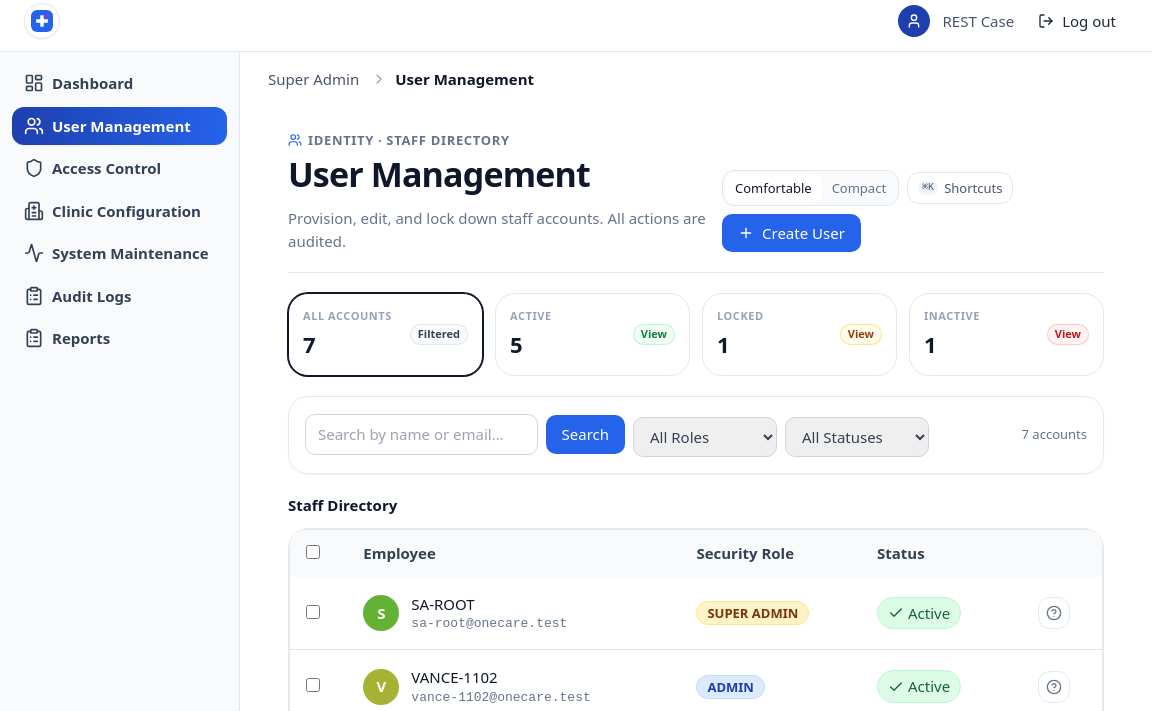
Scenario: super-admin user management — REST cases › assigns a new role through PUT /users/{id}/role
Click the button without text in the row of "vance-1102@onecare.test": (1054, 687) x1=1038 y1=671 x2=1070 y2=703
(page scrolled)
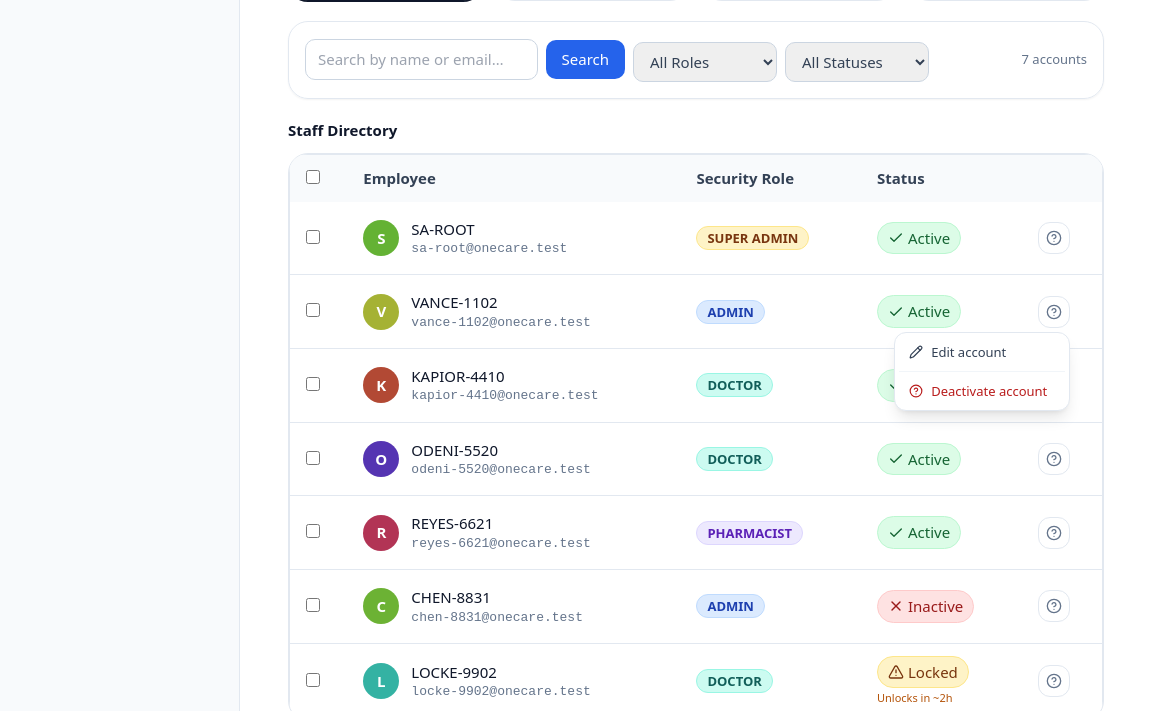
expect the menu is shown: met, box x1=894 y1=332 x2=1070 y2=411
Click the button "Edit account": (982, 352) x1=899 y1=337 x2=1065 y2=367
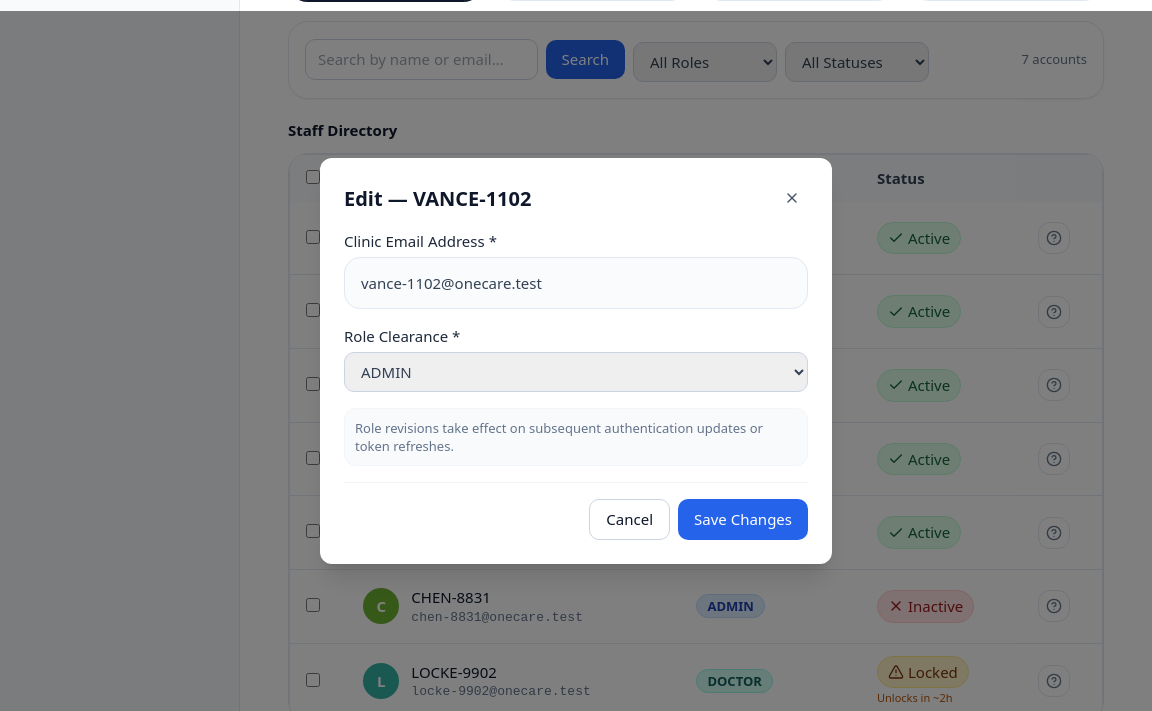
expect the heading "Edit — VANCE-1102" is shown: met, box x1=344 y1=183 x2=532 y2=214
Select "PHARMACIST" in the dropdown labelled "Role Clearance*": (576, 372) x1=344 y1=352 x2=808 y2=392
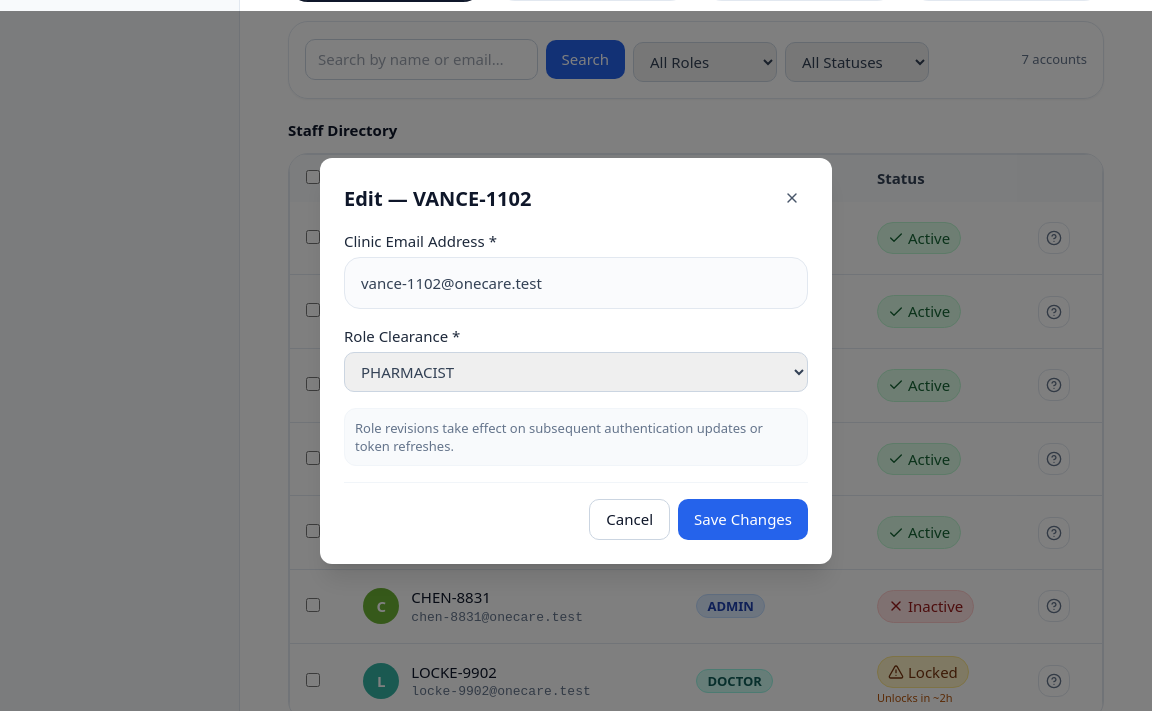
Click the button "Save Changes": (743, 519) x1=678 y1=499 x2=808 y2=540
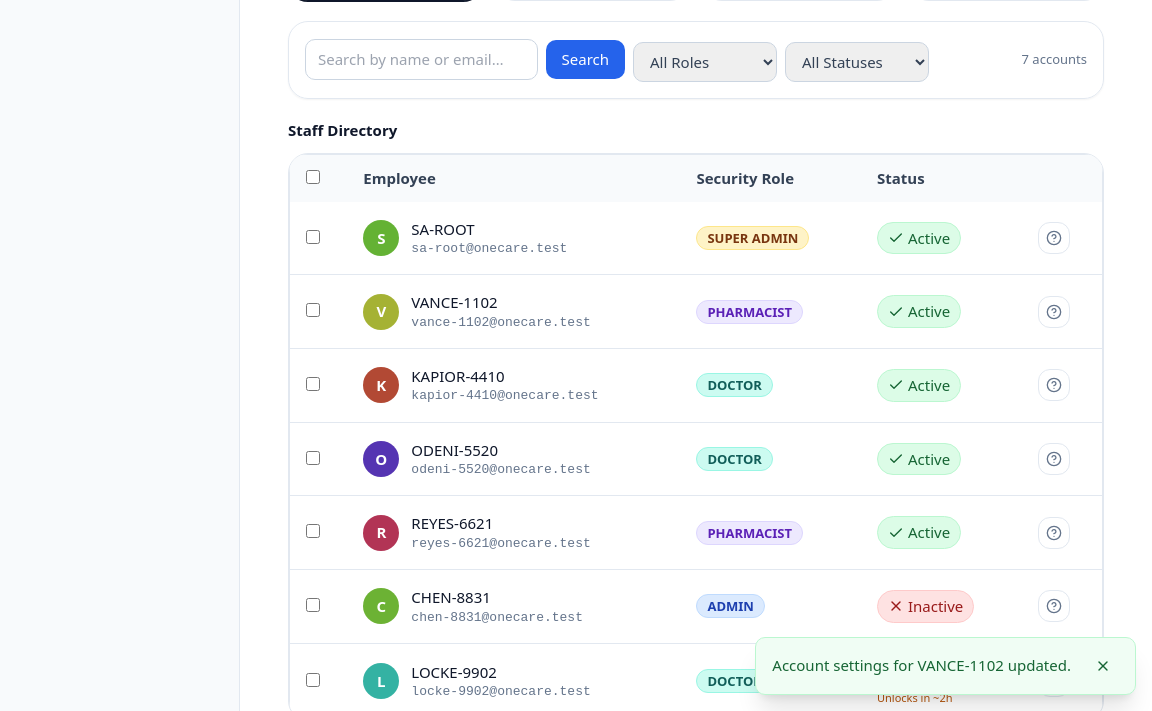
expect the text "Account settings for VANCE-1102 updated." is shown: met, box x1=772 y1=654 x2=1071 y2=676
expect the text "PHARMACIST" next to "vance-1102@onecare.test" is shown: met, box x1=707 y1=302 x2=792 y2=320
